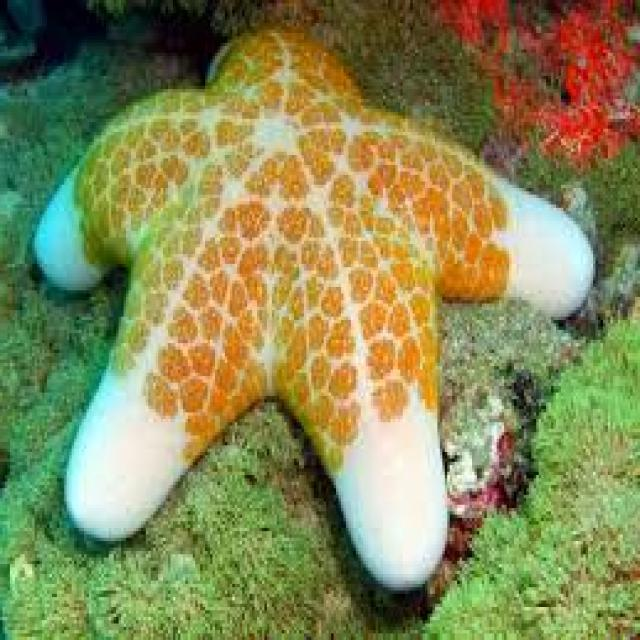starfish: (37, 26, 593, 587)
